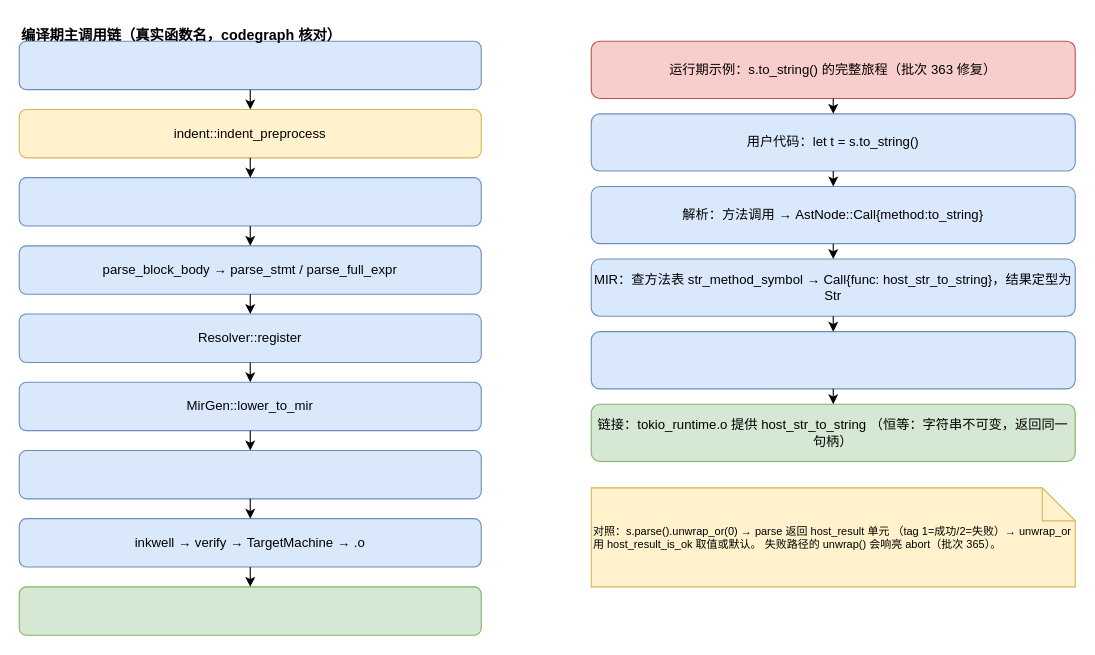
Image size: 1095x655. Some labels were removed from this diagram. The centre of each missing label's shape, as x and y in pixels:
"codegen：get_function 声明外部符号 → LLVM call" goes at point 832,360.
"gcc 链接（+ 两个运行时 .o）" goes at point 249,610.
"LLVMCodegen::gen_mirs" goes at point 249,474.
"main.rs::run" goes at point 249,65.
"parse_zeta → parse_top_level_entry" goes at point 249,201.
